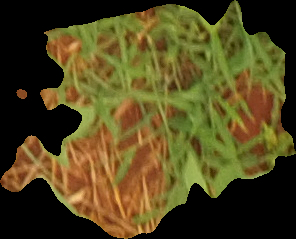grass: (1, 1, 295, 237)
